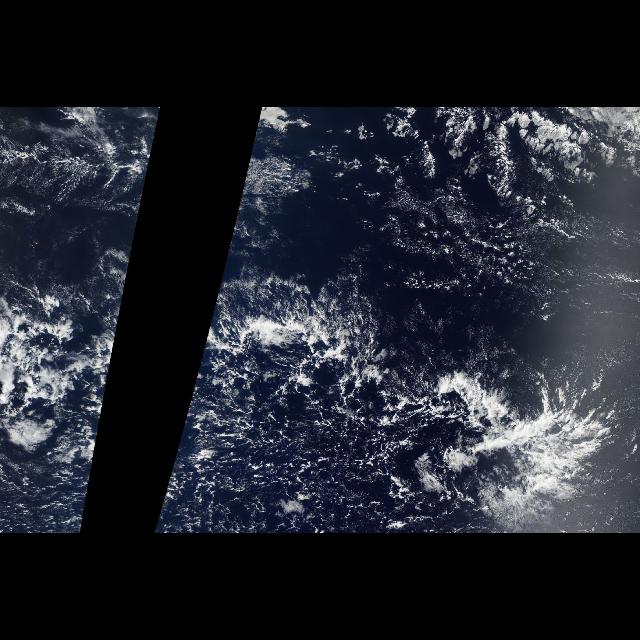Gravel: (154, 359, 470, 531), (13, 359, 112, 531)
Sugar: (360, 184, 638, 336)
